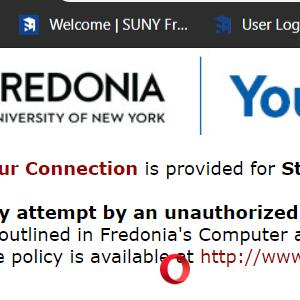opera: (160, 254, 190, 284)
